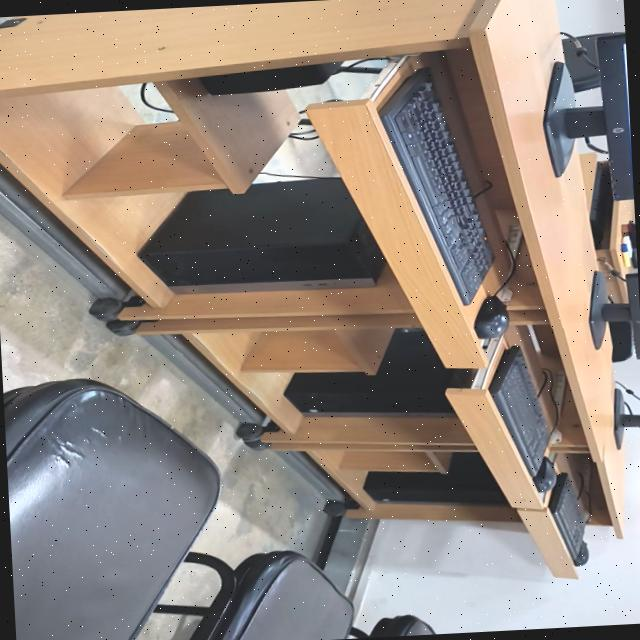Chair: (3, 378, 220, 640), (155, 549, 354, 640), (351, 614, 436, 638)
Cpu: (139, 177, 384, 292), (286, 328, 472, 416), (364, 451, 514, 514)
Keyboard: (379, 69, 494, 304), (489, 345, 551, 476), (549, 472, 587, 554), (590, 161, 613, 248)
Monitor: (544, 32, 634, 199), (591, 272, 640, 358), (615, 388, 640, 448)
Mouse: (475, 295, 509, 338), (533, 456, 557, 491), (574, 539, 589, 565)
